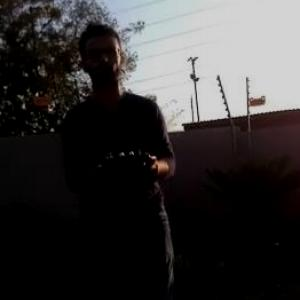follow: (57, 18, 183, 299)
